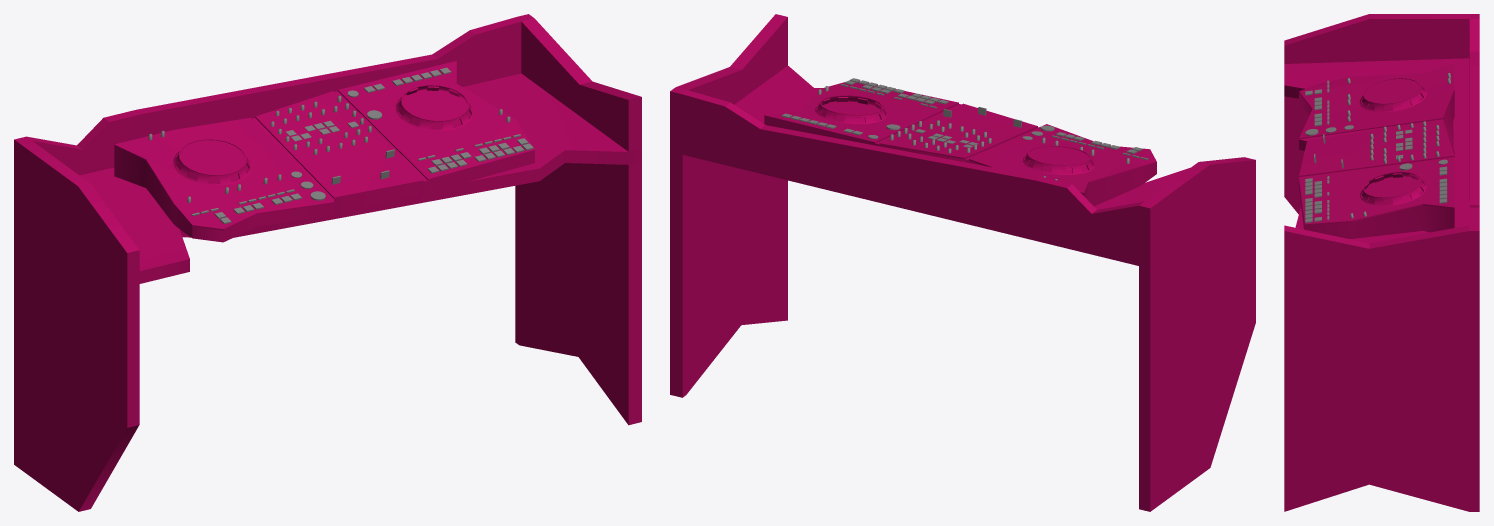
Rendered from Table_DJ_V2.fbx.
The picture shows the model from 3 angles, left to right: view 1: azimuth 30°, elevation 25°; view 2: azimuth 150°, elevation 25°; view 3: azimuth 270°, elevation 25°; orthographic projection. The views are drawn at different scales.
Visible parts, largest first — view 1: Object001; view 2: Object001; view 3: Object001.
Part boxes in pixels (x1,y1,x2,y2): Object001: (14, 14, 641, 511); Object001: (670, 14, 1255, 511); Object001: (1284, 14, 1479, 511).
Size of the model in its own units: 210 by 127 by 80.01.
